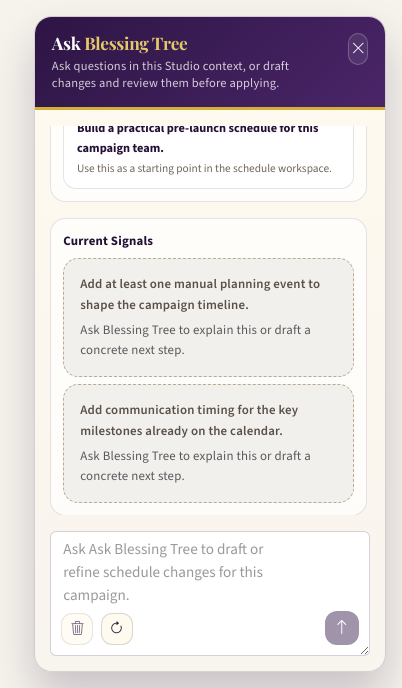
Test: CampaignStudioAiRail › drafts and applies a calendar event from a prompt
This screenshot has width=402, height=688.
(page scrolled)
Step 1. Type "Add volunteer orientation on 2026-11-03 at 6pm" into the text box with placeholder "Ask Blessing Tree to draft or refine schedule changes" → x=210, y=594, box 50,532 -> 370,656
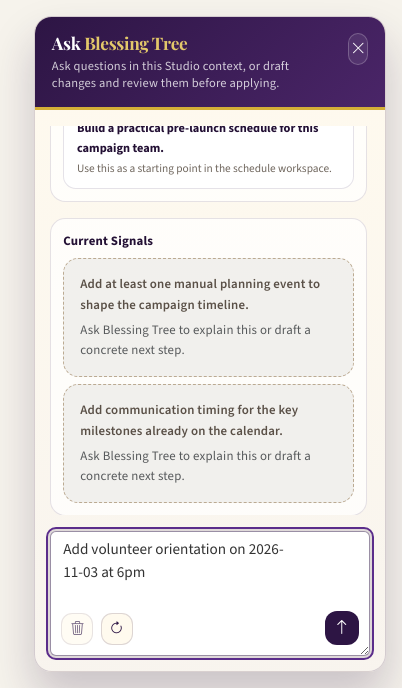
Step 2. Click the button named "send ai prompt" → x=342, y=628, box 325,611 -> 359,645
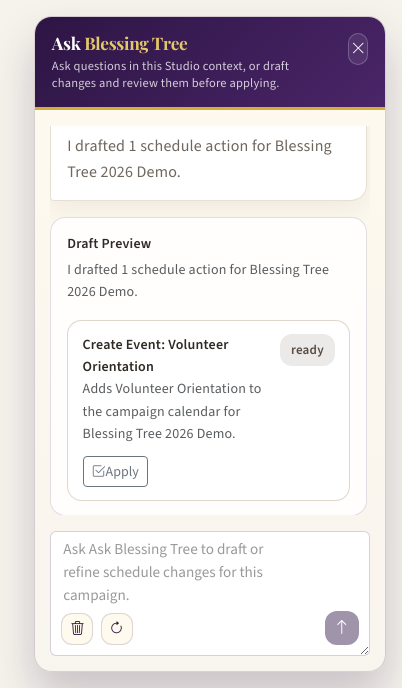
Check: the 1st text "I drafted 1 schedule action for Blessing Tree 2026 Demo." is shown, box 67,133 -> 350,184
Step 3. Click the button "Apply" → x=115, y=471, box 83,456 -> 148,487
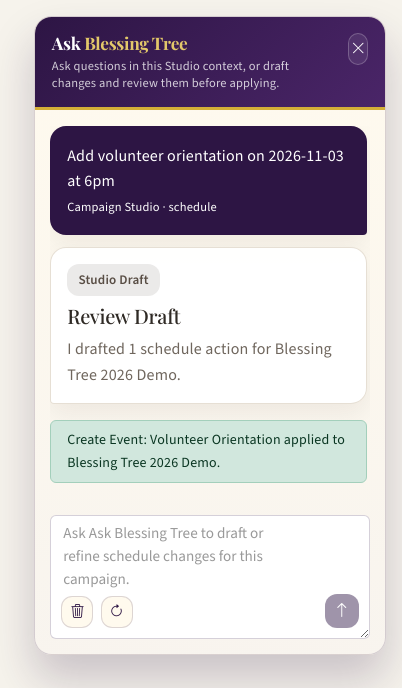
Check: the button "Apply" is gone
